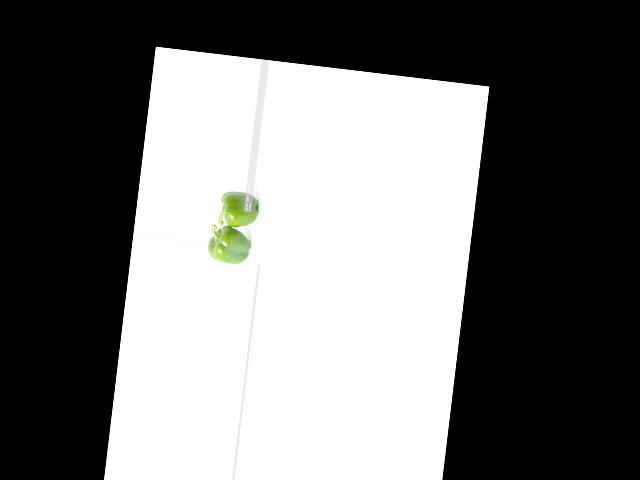bell_pepper: (203, 224, 258, 266)
